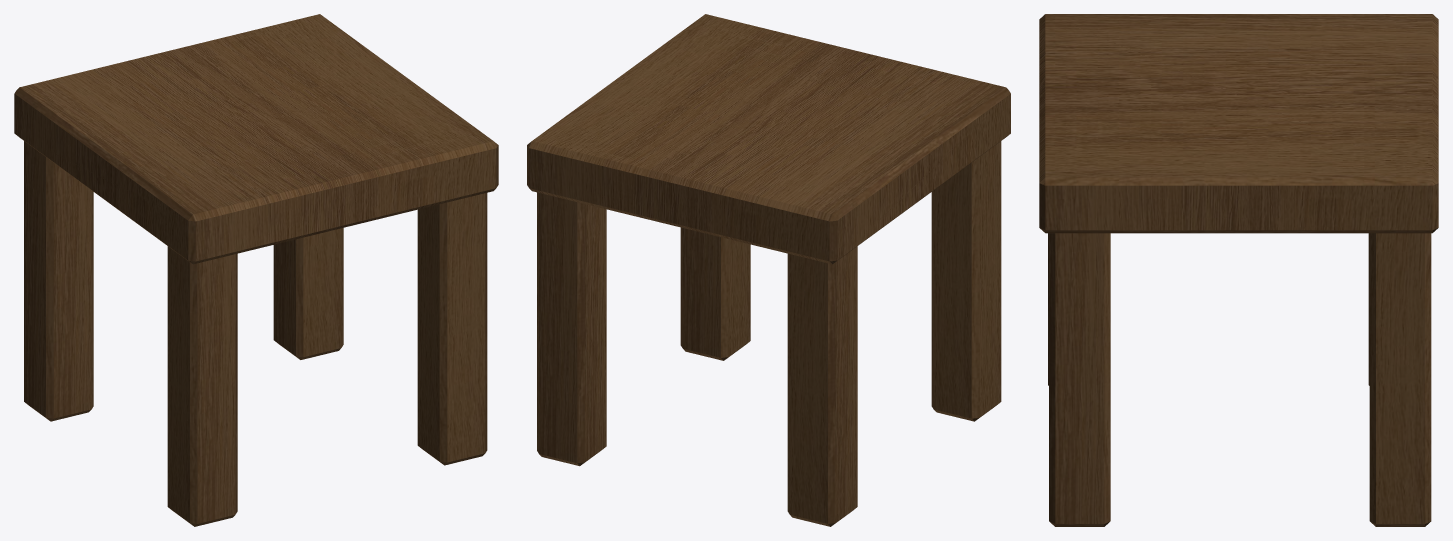
Rendered from SideTable.fbx.
3 renders of one model, left to right at view 1: azimuth 30°, elevation 25°; view 2: azimuth 150°, elevation 25°; view 3: azimuth 270°, elevation 25°, orthographic. The views are drawn at different scales.
Parts seen in each view (by area): view 1: SideTable; view 2: SideTable; view 3: SideTable.
Boxes of the visible parts, x1,y1,x2,y2 form: SideTable: (14,14,498,526); SideTable: (527,14,1010,526); SideTable: (1039,14,1438,526).
Bounding box in the file's own units: 4.35 × 4.24 × 4.35.
